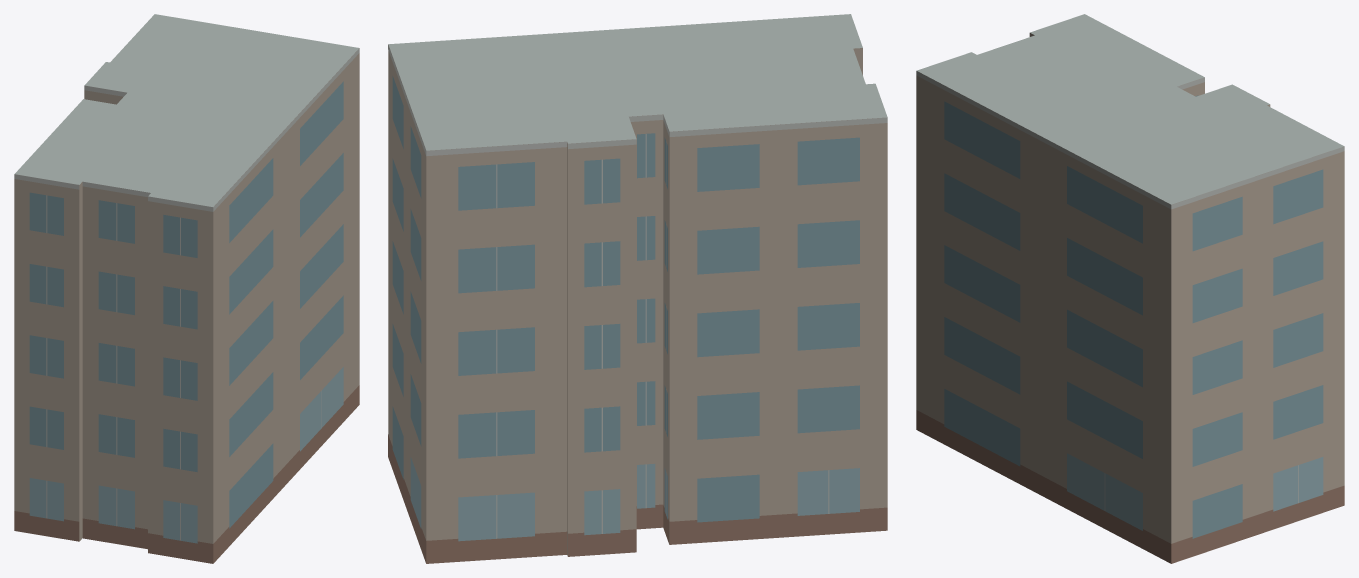
File: survey-upis-32745586.glb
3 views of the same model, side by side, from view 1: azimuth 30°, elevation 25°; view 2: azimuth 150°, elevation 25°; view 3: azimuth 270°, elevation 25° (orthographic). The views are drawn at different scales.
Visible parts, largest first — view 1: survey-upis-32745586.tmp; view 2: survey-upis-32745586.tmp; view 3: survey-upis-32745586.tmp.
Part boxes in pixels (bbox=[...]): survey-upis-32745586.tmp: bbox=[14, 14, 359, 563]; survey-upis-32745586.tmp: bbox=[388, 14, 887, 563]; survey-upis-32745586.tmp: bbox=[916, 14, 1344, 563].
Size of the model in its own units: 20.85 by 18.3 by 19.78.
